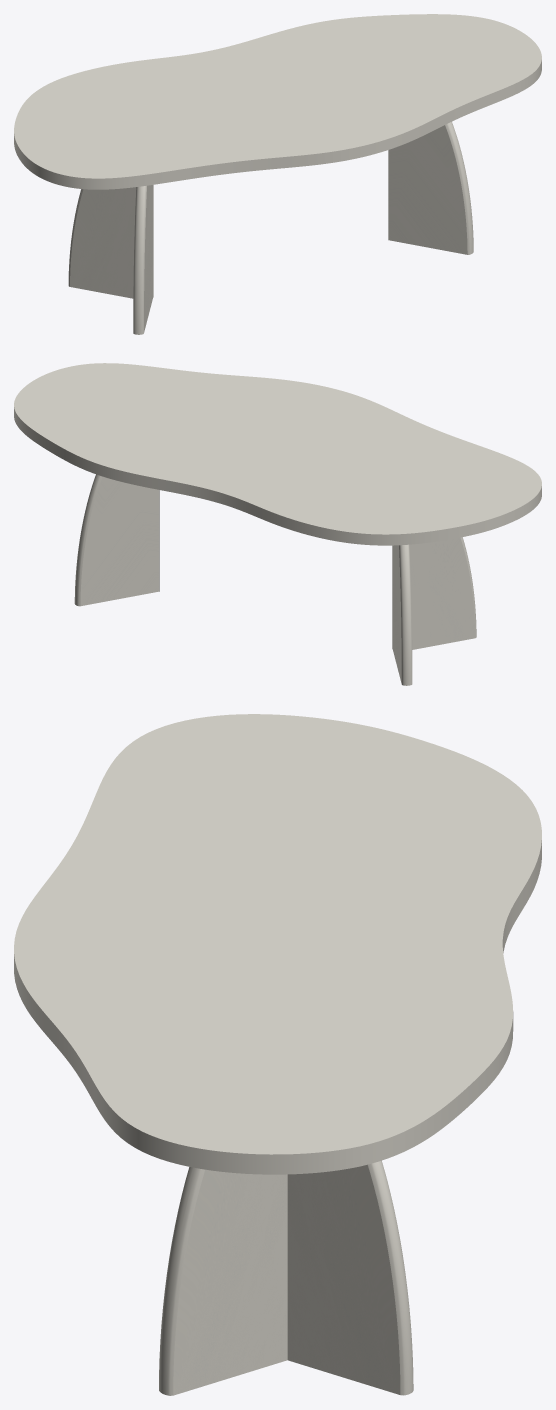
File: pale_toplast_standard_newtable2.glb
3 views of the same model, one above another, from view 1: azimuth 30°, elevation 25°; view 2: azimuth 150°, elevation 25°; view 3: azimuth 270°, elevation 25° (orthographic). The views are drawn at different scales.
Parts seen in each view (by area): view 1: standard_toplast, newtable2_singleright2, newtable2_singleleft1, newtable2_singleright1; view 2: standard_toplast, newtable2_singleleft2, newtable2_singleright1, newtable2_singleleft1; view 3: standard_toplast, newtable2_singleright2, newtable2_singleleft2.
Boxes of the visible parts, left/top/right/bottom form: standard_toplast: left=14, top=14, right=541, bottom=189; newtable2_singleright2: left=388, top=122, right=473, bottom=254; newtable2_singleleft1: left=68, top=185, right=153, bottom=298; newtable2_singleright1: left=133, top=185, right=153, bottom=334; standard_toplast: left=14, top=363, right=541, bottom=545; newtable2_singleleft2: left=74, top=474, right=158, bottom=606; newtable2_singleright1: left=392, top=537, right=476, bottom=649; newtable2_singleleft1: left=392, top=544, right=412, bottom=685; standard_toplast: left=14, top=714, right=541, bottom=1174; newtable2_singleright2: left=159, top=1167, right=287, bottom=1395; newtable2_singleleft2: left=287, top=1160, right=413, bottom=1395.
Size of the model in its own units: 7.5 by 2.49 by 3.8.
Materials: 1 (1 with a texture image).
